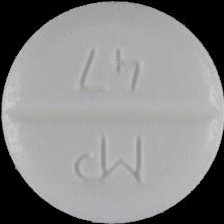68084-949: (0, 0, 224, 224)
